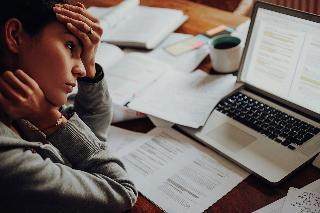person - v3 P: (0, 0, 137, 212)
